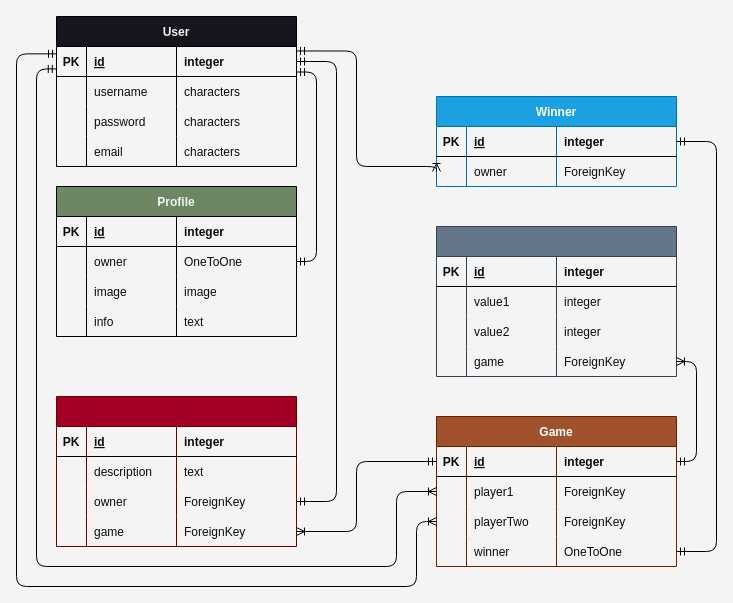
This 733x603 diagram has some shape labels left out. Here are the shapes that lost their labels. From the top down, the box of each, then its label:
(436, 226, 676, 376): DiceRoll
(56, 396, 296, 546): Move
